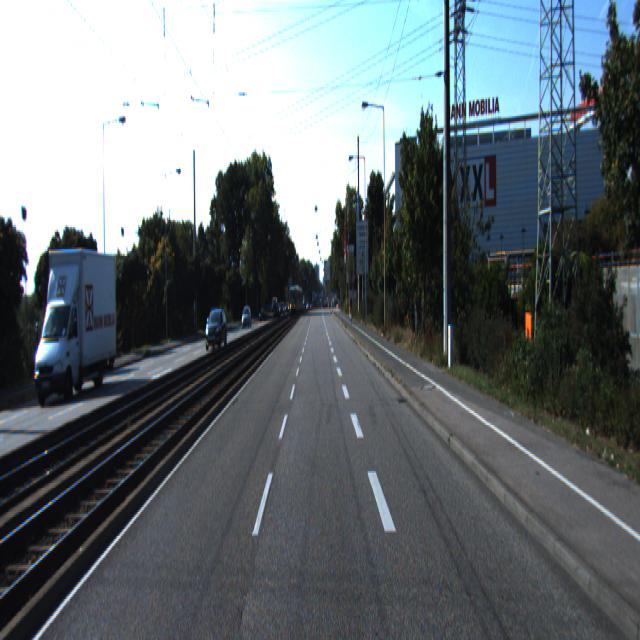Car: (30, 242, 119, 408), (204, 309, 228, 353)
